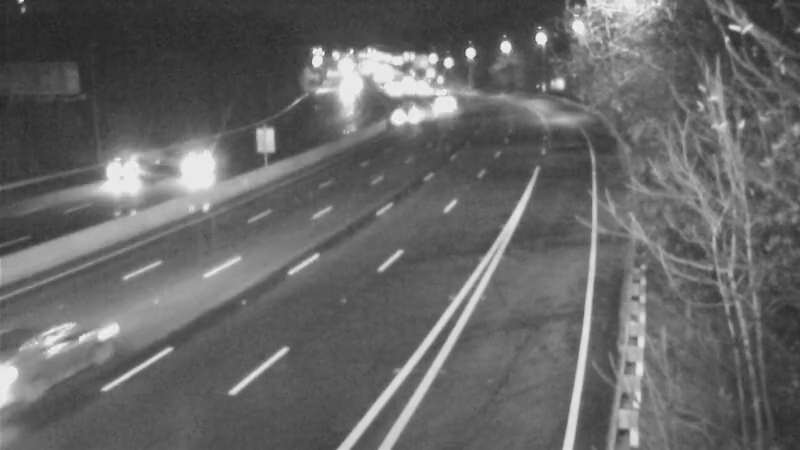vehicle: (1, 320, 92, 430), (89, 132, 169, 212), (156, 129, 236, 209), (419, 84, 469, 134), (382, 81, 432, 131)
